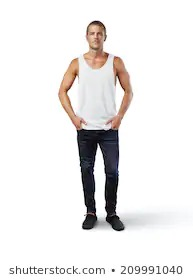C_tank top: (75, 48, 123, 131)
